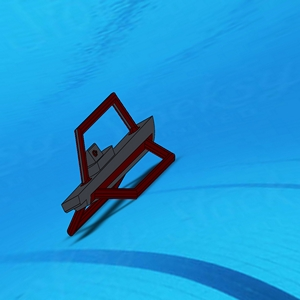submarine: (62, 94, 183, 236)
